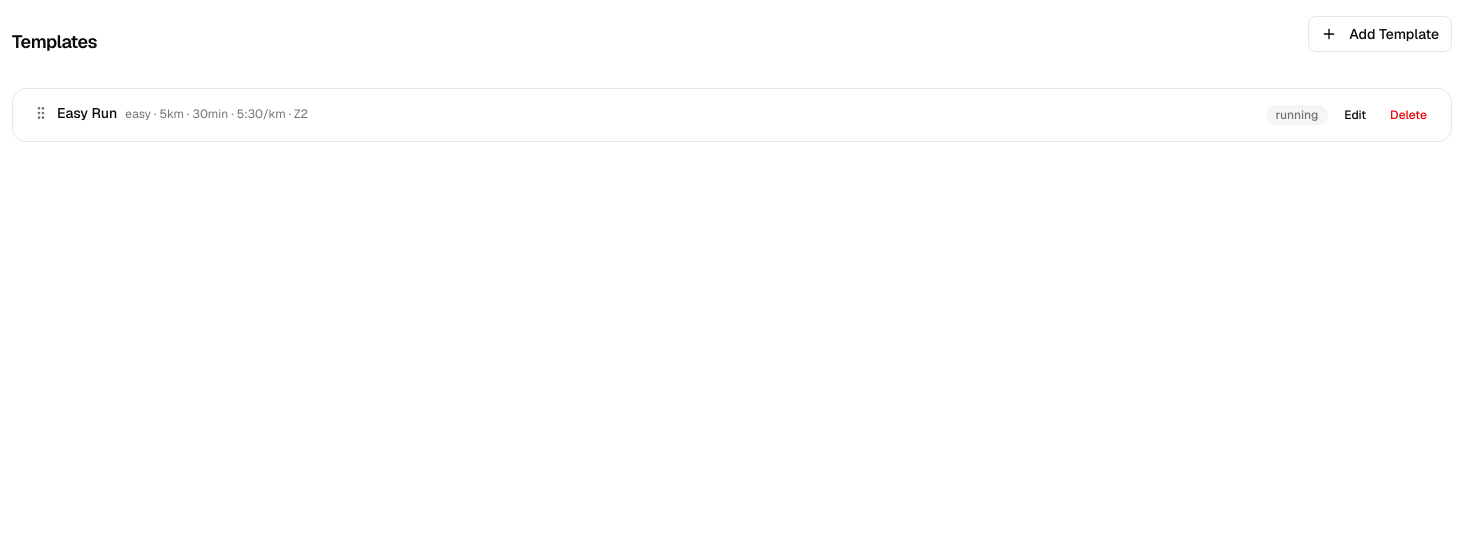
Test: TemplateSection — expand-to-edit › expands running template to show editable fields on click
Click the text "Easy Run".
click(87, 113)  # box [57,104,117,122]
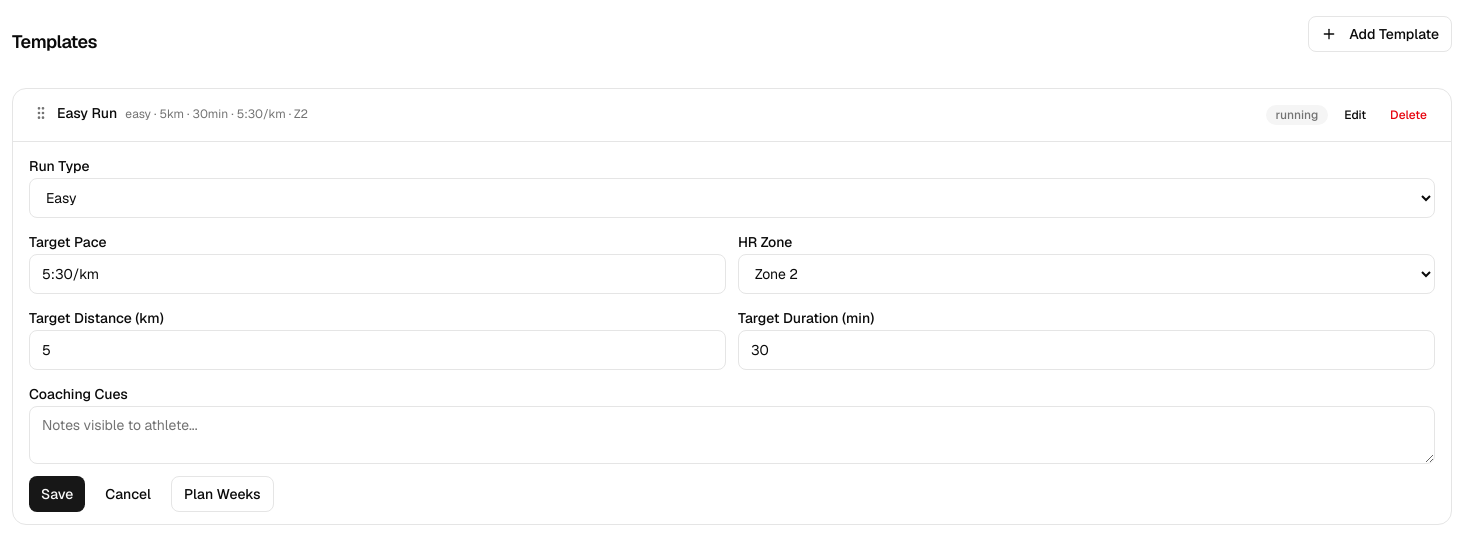
expect the dropdown labelled "Run Type" is shown: met, box [29,178,1435,218]
expect the field labelled "Target Distance (km)" is shown: met, box [29,330,726,370]
expect the field labelled "Target Duration (min)" is shown: met, box [738,330,1435,370]
